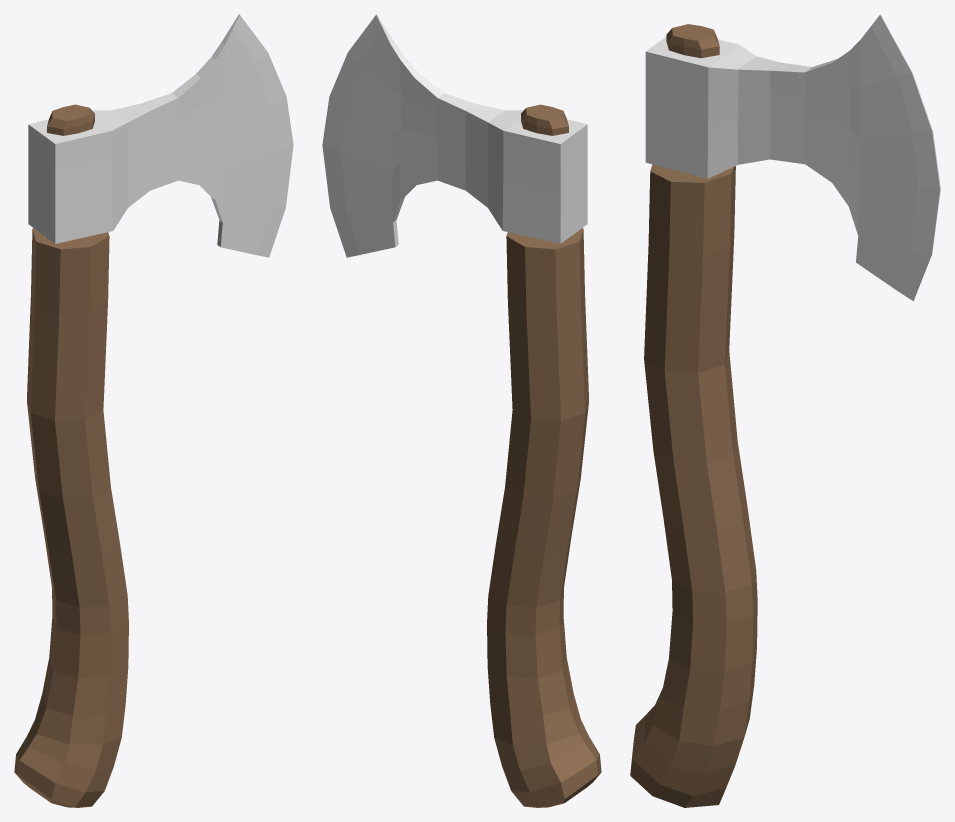
Rendered from Axe.fbx.
3 views of the same model, side by side, from view 1: azimuth 30°, elevation 25°; view 2: azimuth 150°, elevation 25°; view 3: azimuth 330°, elevation 25° (orthographic). The views are drawn at different scales.
Visible parts, largest first — view 1: Axe_Combined; view 2: Axe_Combined; view 3: Axe_Combined.
Part boxes in pixels (<box>): Axe_Combined: <box>14,14,293,807</box>; Axe_Combined: <box>322,14,601,807</box>; Axe_Combined: <box>630,14,940,807</box>.
Bounding box in the file's own units: 58.11 × 150 × 16.5.
